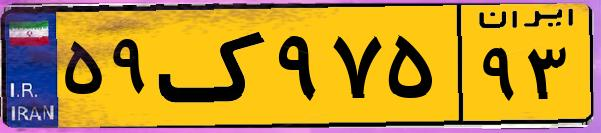3: (525, 38, 570, 115)
5: (385, 28, 445, 110), (57, 26, 110, 100)
7: (330, 28, 385, 110)
9: (270, 28, 330, 110), (475, 38, 525, 113), (110, 28, 158, 98)
ک: (158, 12, 270, 120)
